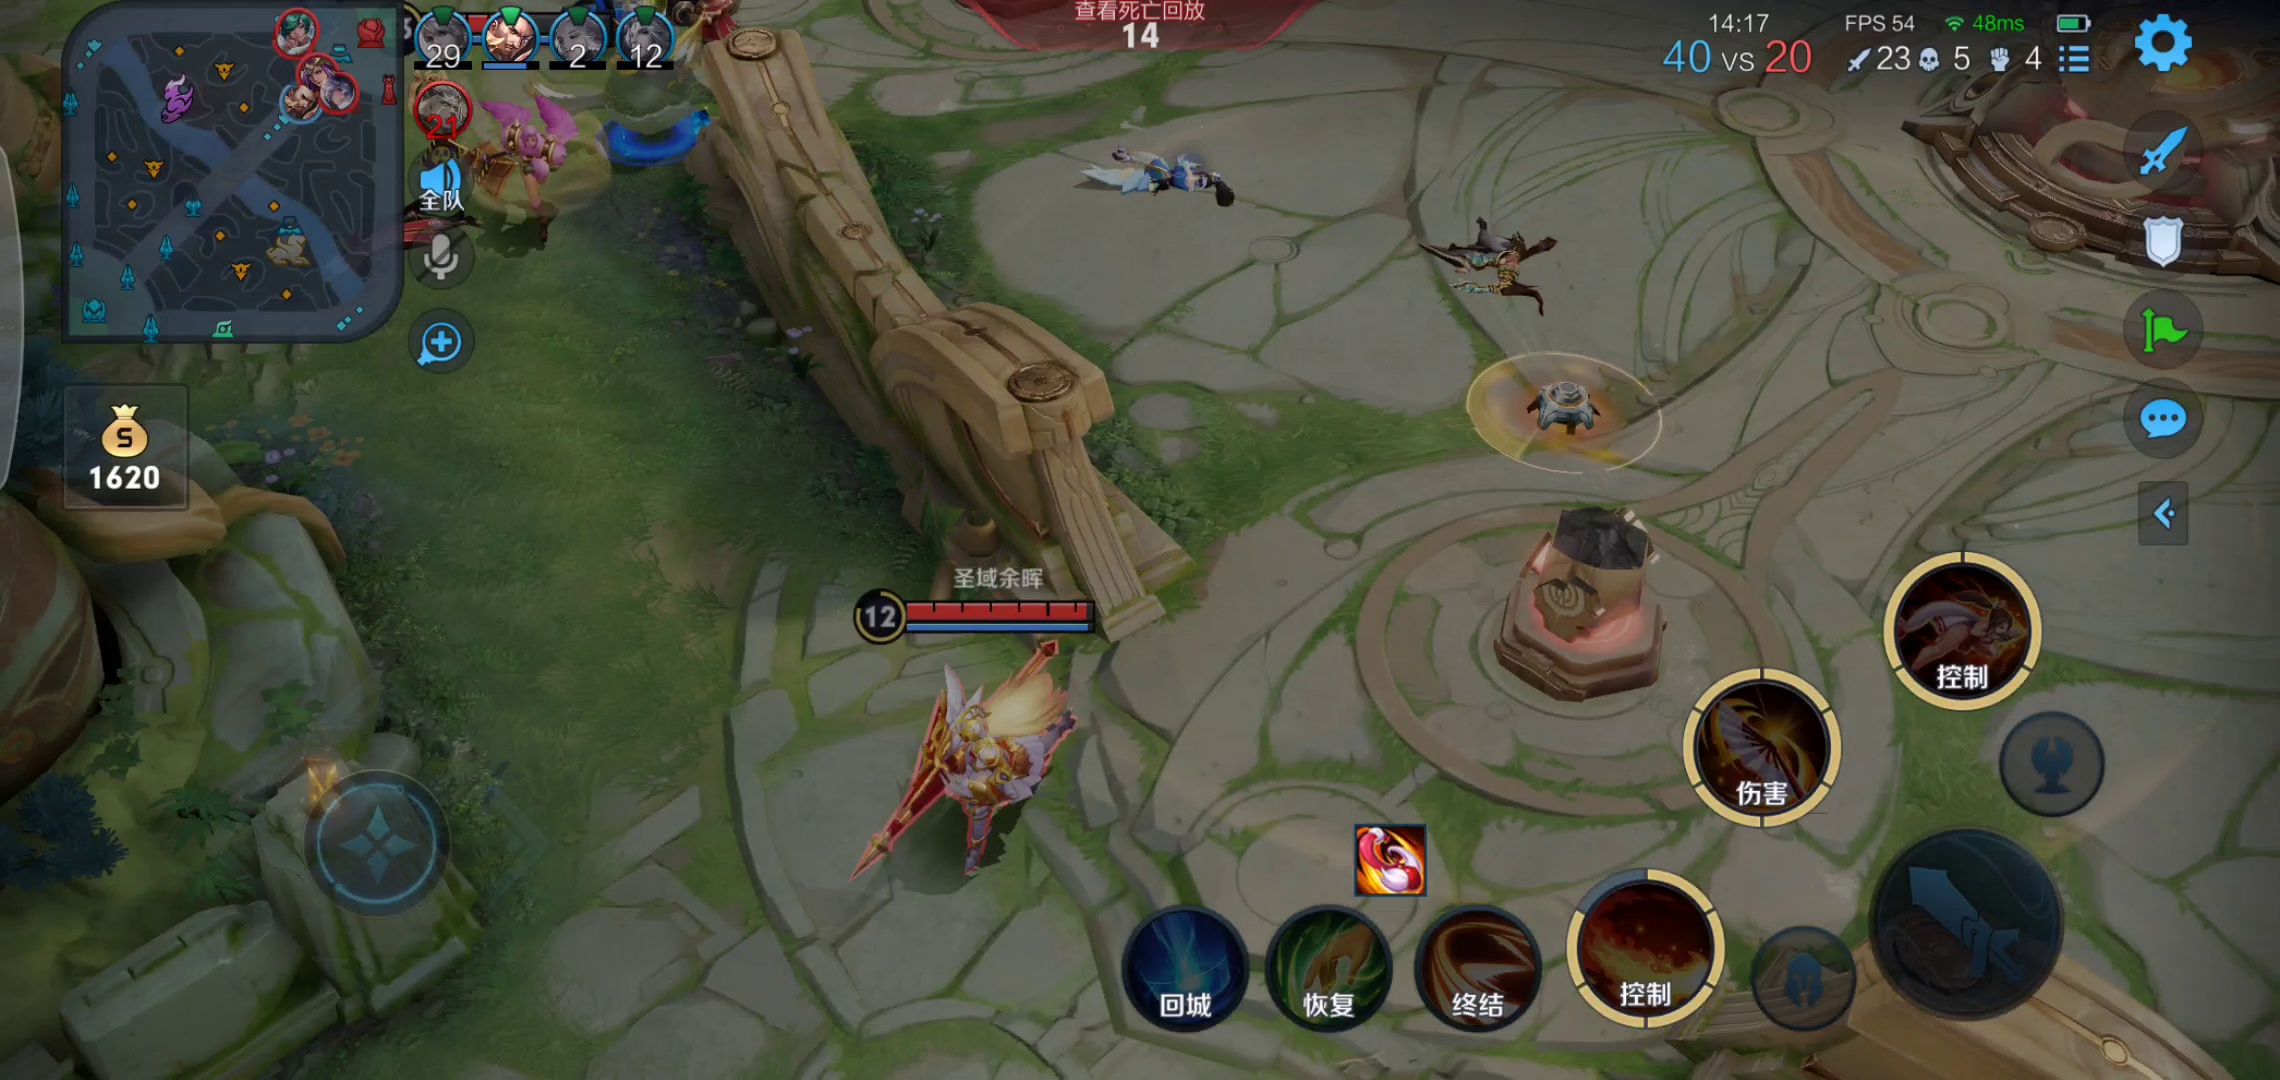crystal: (1900, 23, 2280, 281)
hero: (843, 651, 1080, 895), (1400, 205, 1586, 323), (1077, 124, 1245, 227), (477, 97, 595, 241)
tower: (1479, 496, 1693, 706)
